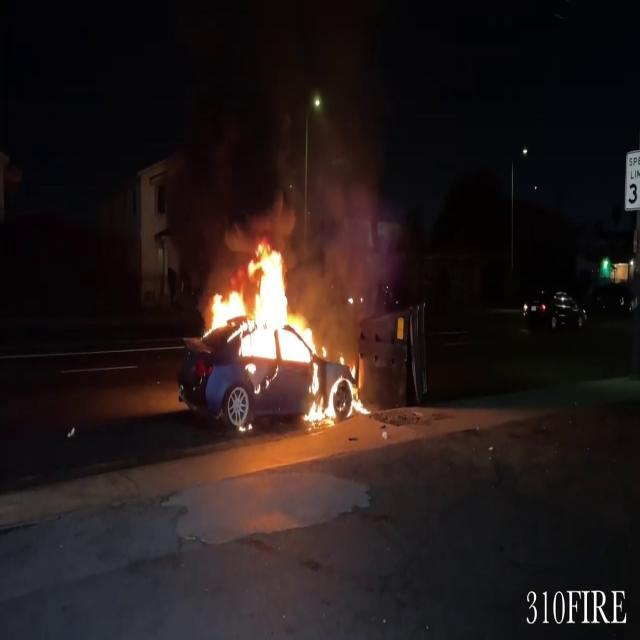Fire: (198, 238, 366, 428)
Smoke: (166, 3, 302, 250)
